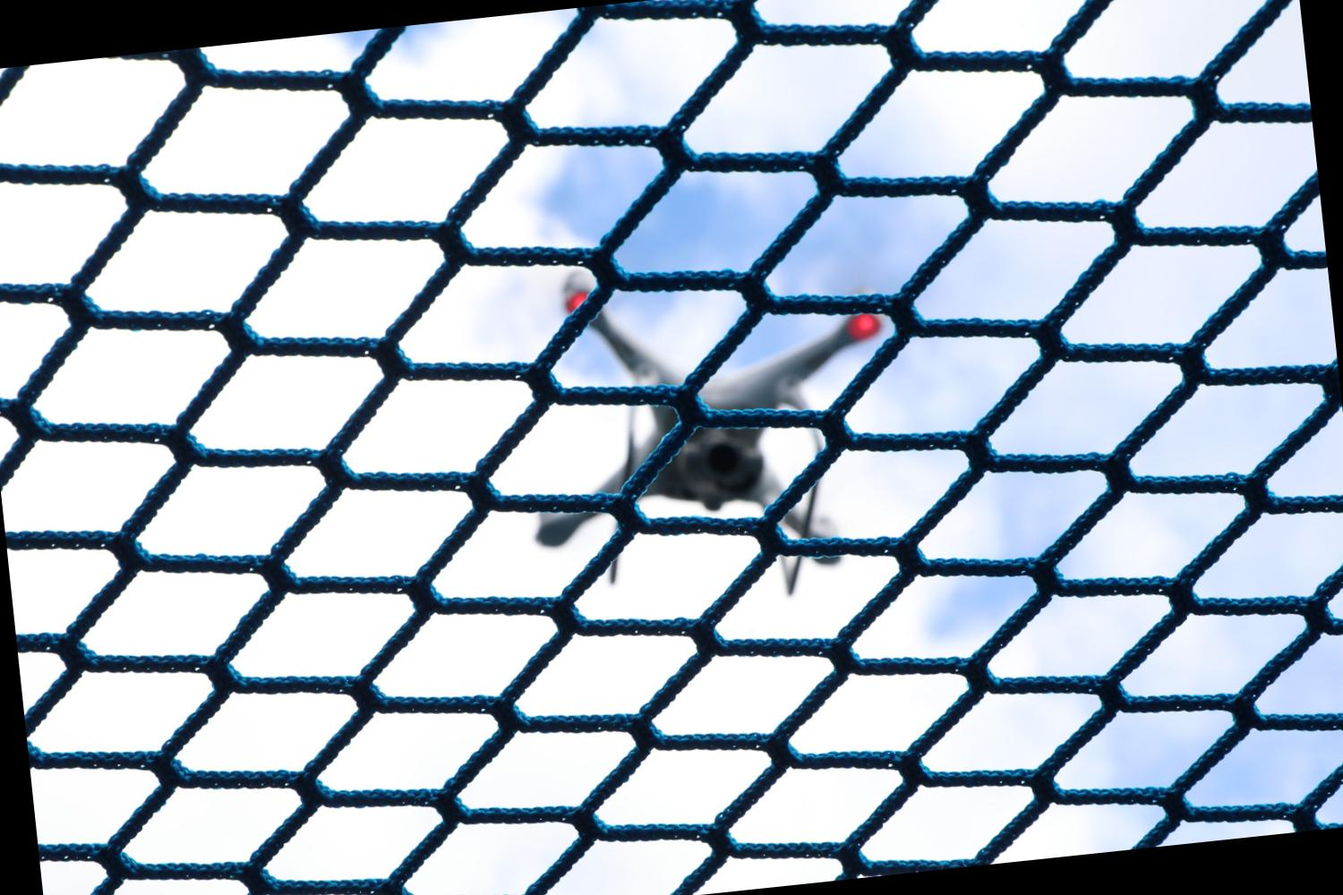drone: (498, 225, 926, 592)
